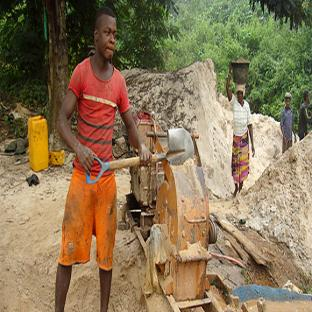Person: (56, 14, 129, 307), (217, 54, 259, 207), (273, 81, 294, 152), (299, 90, 312, 140)
